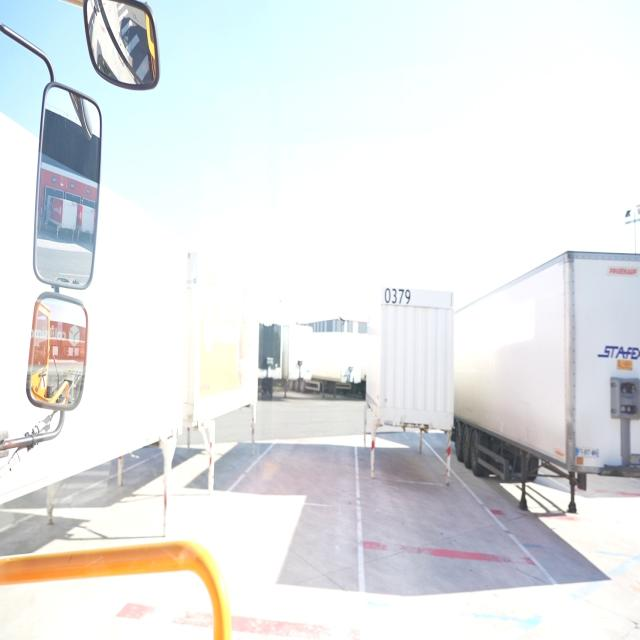Code: (383, 282, 413, 309)
